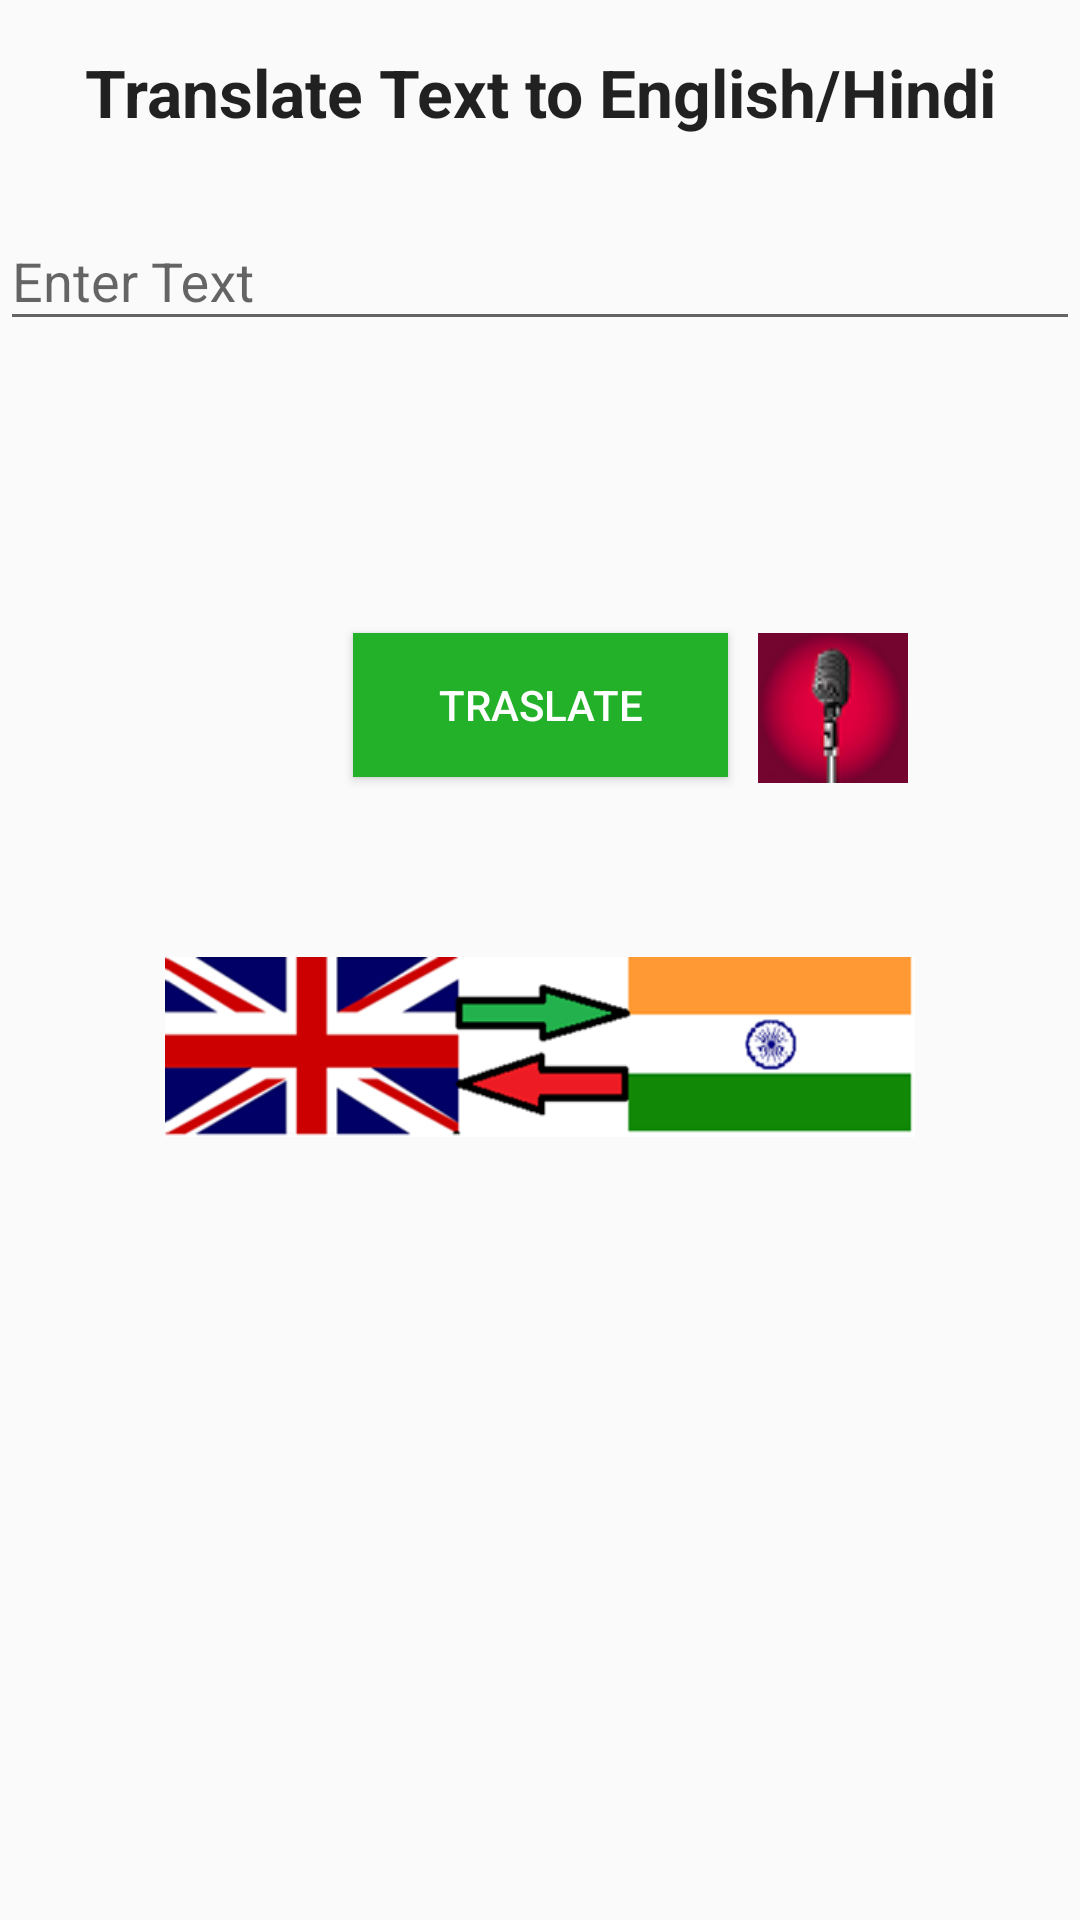

Where icons sit on this 1080x1920 app screen, as (x1, y1, x2, y2):
mic: (758, 633, 908, 783)
